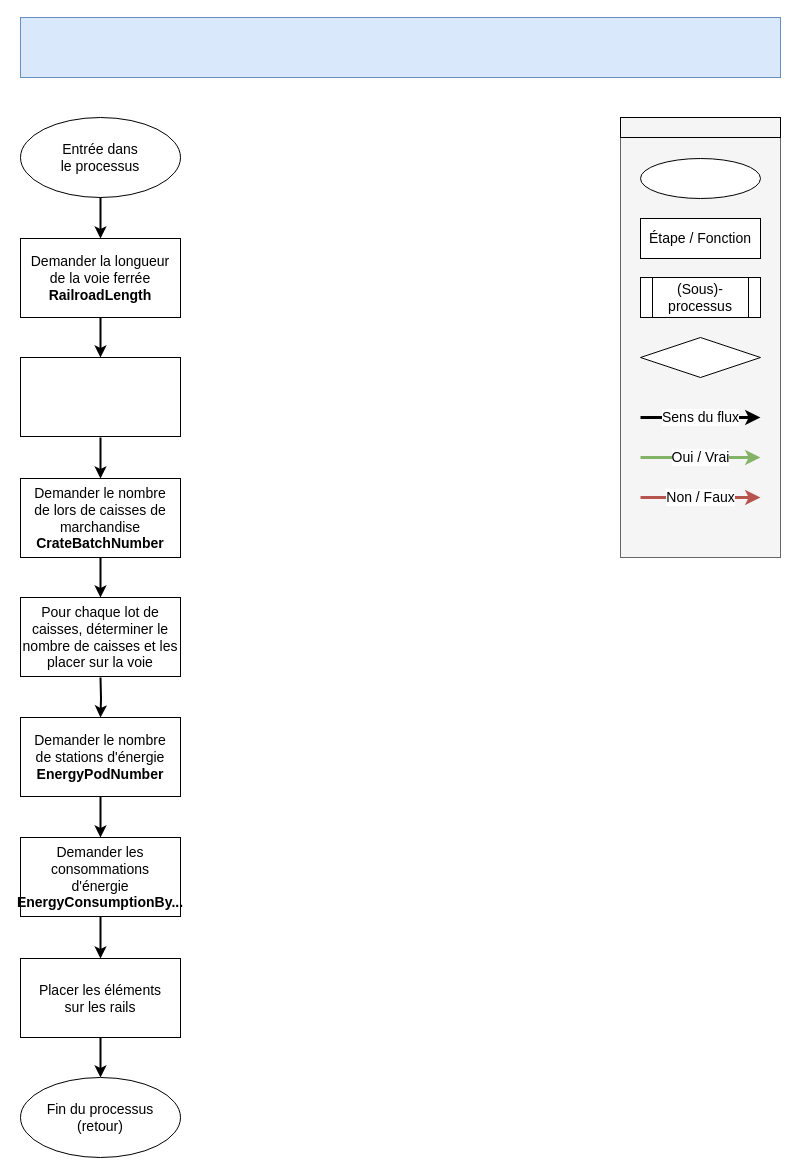
Some shapes in this 798 by 1175 pixel diagram are drawn without their labels. Each missing label, with the centre of its shape:
Choix: [700,357]
Diagramme de flux - Le petit train robot Initialisation des données: [400,47]
Début / Fin: [700,178]
Légende: [700,127]
Placer le garage et l'entrepôt sur la voie ferrée: [100,396]
